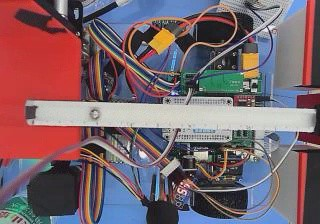ironball: (90, 108, 100, 119)
